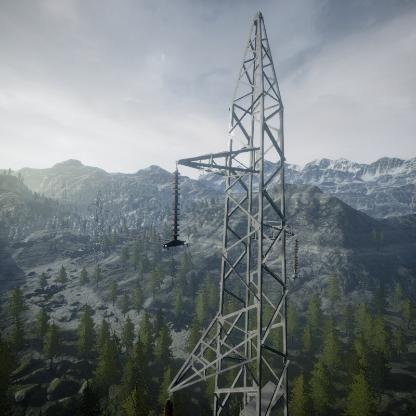insulator: (170, 169, 182, 240), (292, 239, 300, 277)
tower: (162, 8, 305, 416)
